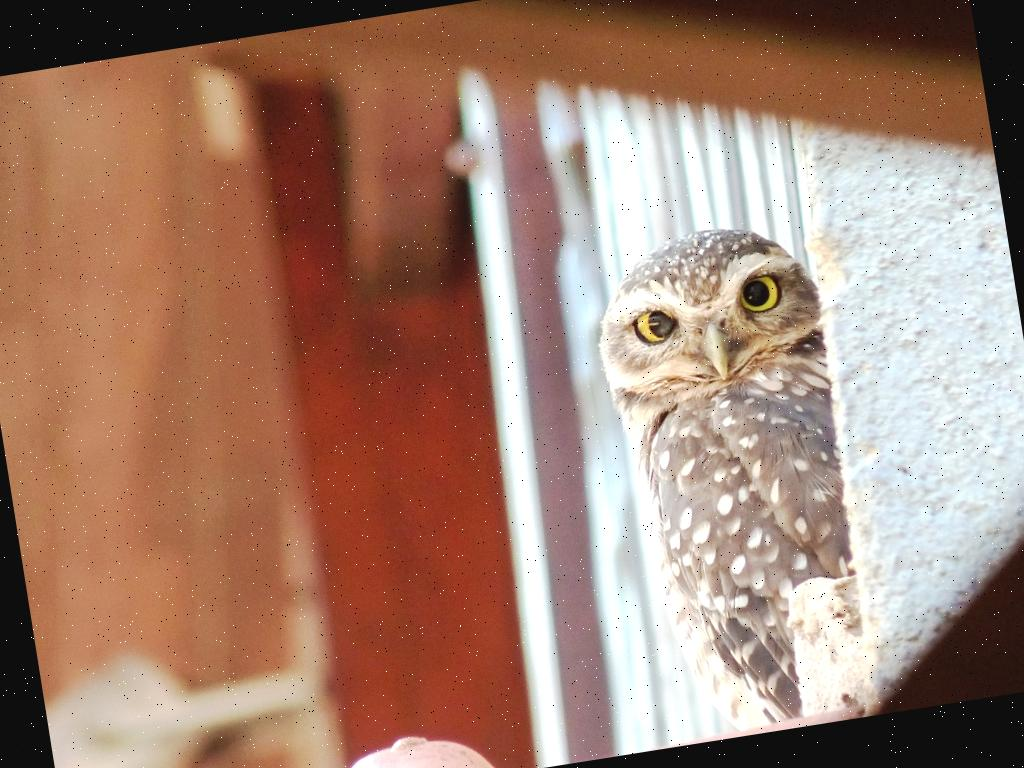Owl: (581, 211, 880, 746)
